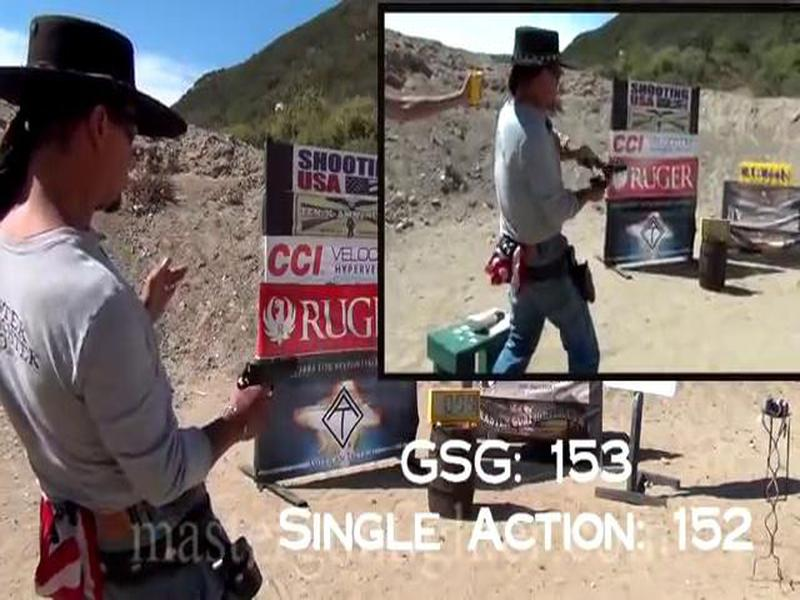Pistola: (229, 329, 327, 421)
